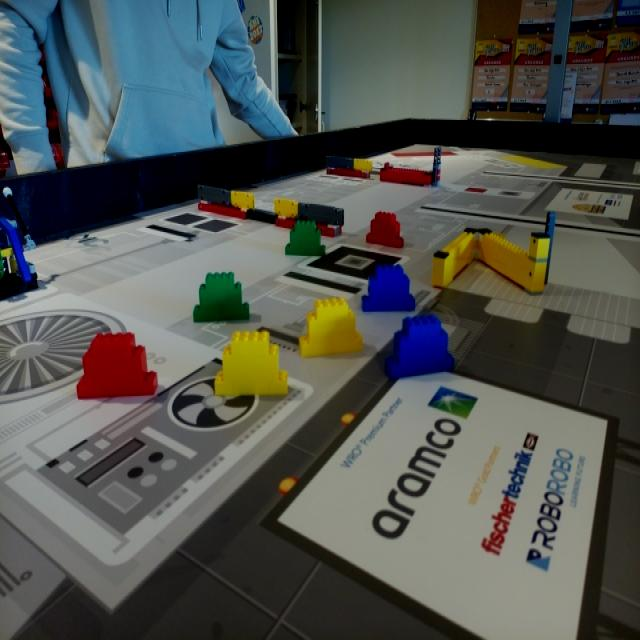blau: (390, 317, 452, 379), (367, 267, 413, 309)
gruen: (194, 271, 251, 325), (286, 222, 327, 258)
rot: (77, 331, 157, 400), (367, 212, 404, 246)
yellow: (220, 332, 288, 394), (305, 298, 359, 354)
